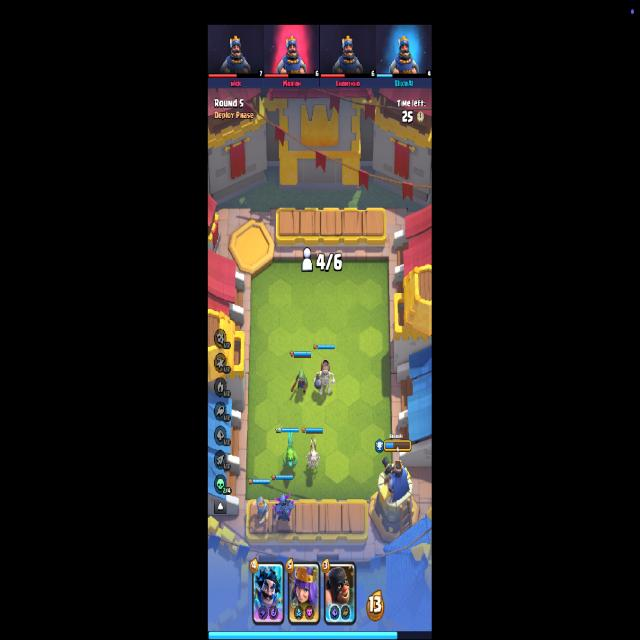baby_dragon: (282, 432, 298, 470)
bandit: (290, 368, 308, 398)
card_archer_queen: (288, 562, 320, 626)
card_e_wiz: (253, 561, 285, 625)
card_executioner: (325, 562, 357, 626)
giant_skeleton: (314, 361, 335, 396)
knight: (251, 494, 269, 524)
pekka: (273, 495, 294, 526)
skeleton_dragon: (304, 434, 322, 474)
